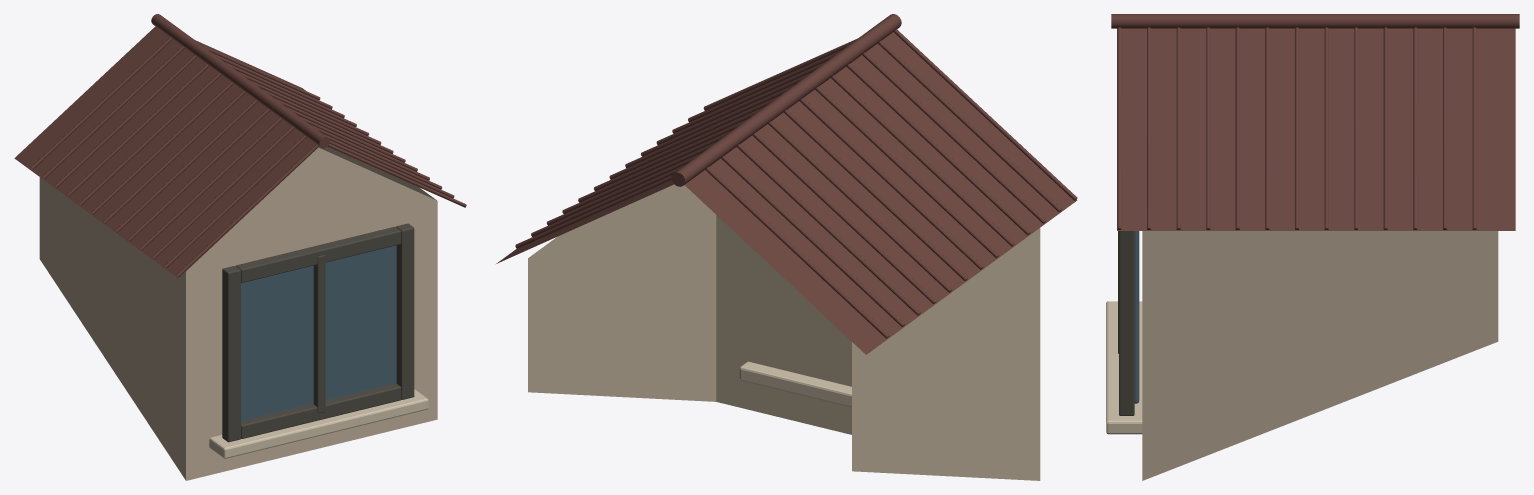
The model's file is Dachgaube.glb.
The picture shows the model from 3 angles, left to right: view 1: azimuth 30°, elevation 25°; view 2: azimuth 150°, elevation 25°; view 3: azimuth 270°, elevation 25°; orthographic projection. The views are drawn at different scales.
Visible parts, largest first — view 1: Dachflaeche, Gaubengiebel, Gaubenwange, Fensterglas, Fensterbank, Gaubenfenster_Pfosten, Gaubenfenster_Pfosten.001, Gaubenfenster_Riegel.001, Gaubenfenster_Riegel, First, Mittelpfosten, Ziegelkante.003 (+21 smaller); view 2: Dachflaeche, Gaubenwange.001, Gaubenwange, Gaubengiebel, First, Fensterbank, Ziegelkante.002, Ziegelkante.003, Ziegelkante.005, Ziegelkante.006, Ziegelkante.010, Ziegelkante.012 (+21 smaller); view 3: Dachflaeche.001, Gaubenwange.001, First, Gaubenfenster_Pfosten.001, Fensterbank, Fensterglas, Ziegelkante.013, Ziegelkante.015, Ziegelkante.016, Ziegelkante.017, Ziegelkante.018, Ziegelkante.020 (+7 smaller).
Boxes of the visible parts, left/top/right/bottom form: Dachflaeche: left=14, top=26, right=319, bottom=278; Gaubengiebel: left=186, top=147, right=437, bottom=480; Gaubenwange: left=39, top=177, right=185, bottom=480; Fensterglas: left=241, top=245, right=396, bottom=420; Fensterbank: left=209, top=389, right=428, bottom=458; Gaubenfenster_Pfosten: left=222, top=266, right=240, bottom=442; Gaubenfenster_Pfosten.001: left=396, top=223, right=414, bottom=399; Gaubenfenster_Riegel.001: left=236, top=226, right=401, bottom=282; Gaubenfenster_Riegel: left=241, top=383, right=401, bottom=438; First: left=151, top=14, right=329, bottom=148; Mittelpfosten: left=313, top=255, right=325, bottom=413; Ziegelkante.003: left=139, top=117, right=282, bottom=250; Dachflaeche: left=685, top=32, right=1077, bottom=354; Gaubenwange.001: left=528, top=184, right=716, bottom=401; Gaubenwange: left=852, top=228, right=1040, bottom=480; Gaubengiebel: left=716, top=215, right=851, bottom=434; First: left=671, top=14, right=901, bottom=186; Fensterbank: left=739, top=361, right=851, bottom=407; Ziegelkante.002: left=862, top=52, right=1045, bottom=223; Ziegelkante.003: left=846, top=63, right=1030, bottom=235; Ziegelkante.005: left=815, top=86, right=999, bottom=258; Ziegelkante.006: left=799, top=98, right=983, bottom=269; Ziegelkante.010: left=737, top=144, right=920, bottom=315; Ziegelkante.012: left=705, top=167, right=889, bottom=338; Dachflaeche.001: left=1117, top=28, right=1515, bottom=230; Gaubenwange.001: left=1142, top=231, right=1498, bottom=480; First: left=1111, top=14, right=1519, bottom=28; Gaubenfenster_Pfosten.001: left=1119, top=231, right=1134, bottom=415; Fensterbank: left=1106, top=301, right=1142, bottom=434; Fensterglas: left=1134, top=231, right=1139, bottom=403; Ziegelkante.013: left=1117, top=27, right=1121, bottom=229; Ziegelkante.015: left=1176, top=27, right=1180, bottom=229; Ziegelkante.016: left=1206, top=27, right=1210, bottom=229; Ziegelkante.017: left=1235, top=27, right=1239, bottom=229; Ziegelkante.018: left=1265, top=27, right=1269, bottom=229; Ziegelkante.020: left=1324, top=27, right=1328, bottom=229.
Size of the model in its own units: 1.43 by 1.52 by 1.45.
